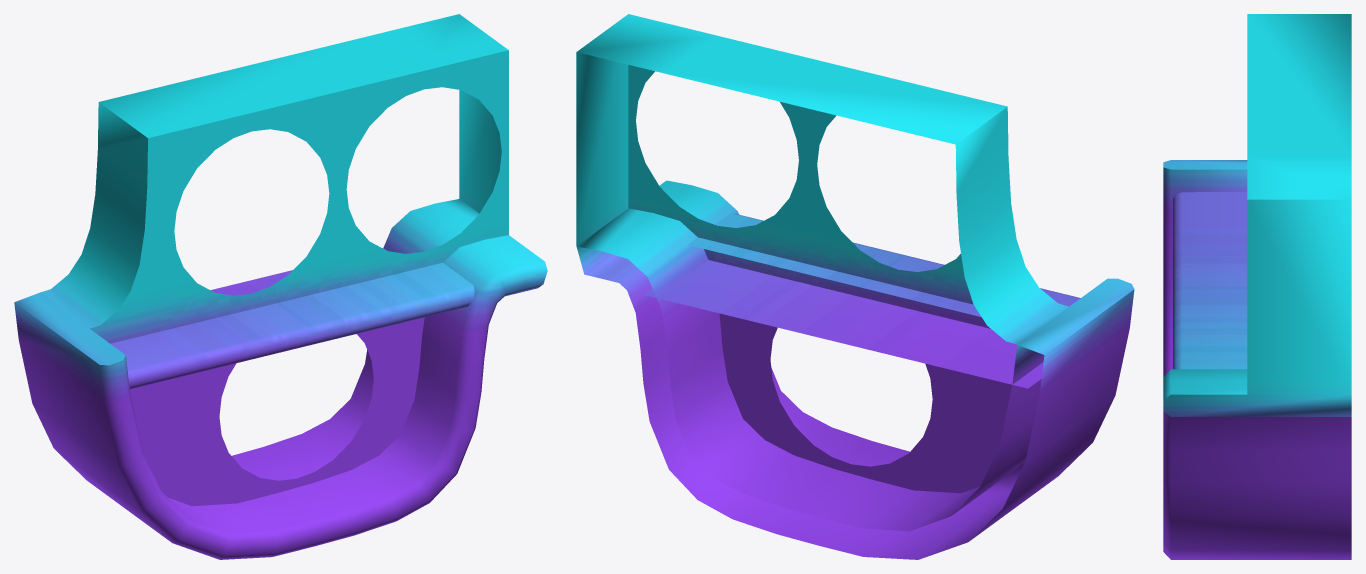
File: AmongUs_Cut_04_0.FBX
3 views of the same model, side by side, from view 1: azimuth 30°, elevation 25°; view 2: azimuth 150°, elevation 25°; view 3: azimuth 270°, elevation 25° (orthographic). The views are drawn at different scales.
Visible parts, largest first — view 1: AmongUs_Cut_04_0; view 2: AmongUs_Cut_04_0; view 3: AmongUs_Cut_04_0.
Boxes of the visible parts, <box> form: AmongUs_Cut_04_0: <box>14,14,547,559</box>; AmongUs_Cut_04_0: <box>576,14,1134,559</box>; AmongUs_Cut_04_0: <box>1163,14,1351,559</box>.
Size of the model in its own units: 2.13 by 0.74 by 1.89.
